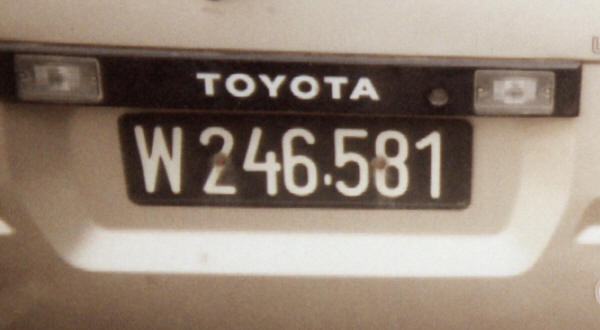license_plate: (117, 114, 473, 211)
